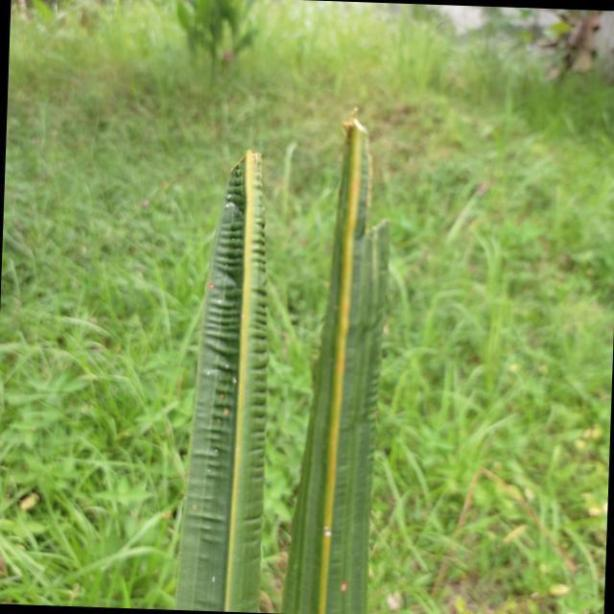Boron: (170, 150, 278, 614), (286, 120, 384, 614)
